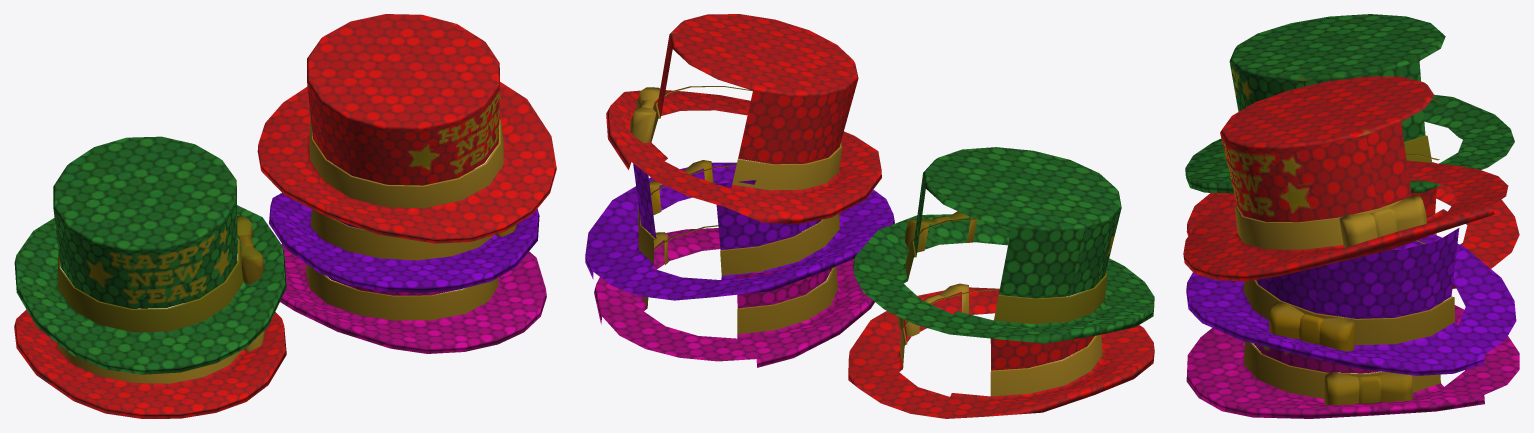
The model's file is EvtobjPartsHatB.glb.
The picture shows the model from 3 angles, left to right: view 1: azimuth 30°, elevation 25°; view 2: azimuth 150°, elevation 25°; view 3: azimuth 270°, elevation 25°; orthographic projection. The views are drawn at different scales.
Parts seen in each view (by area): view 1: polySurface2_1__mHatUnitedB; view 2: polySurface2_1__mHatUnitedB; view 3: polySurface2_1__mHatUnitedB.
Part boxes in pixels (x1=…): polySurface2_1__mHatUnitedB: x1=14, y1=14, x2=556, y2=418; polySurface2_1__mHatUnitedB: x1=585, y1=14, x2=1154, y2=418; polySurface2_1__mHatUnitedB: x1=1183, y1=14, x2=1519, y2=418.
Size of the model in its own units: 14.68 by 7.18 by 7.94.
1 material, 1 textured.
